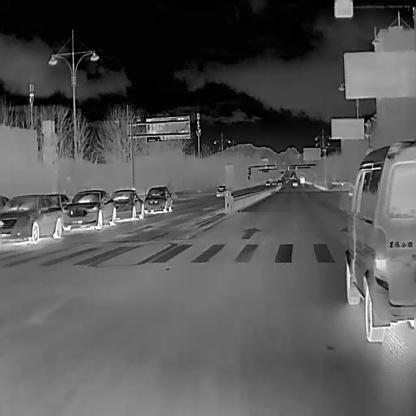car: (338, 138, 414, 341), (0, 192, 62, 241), (62, 189, 116, 229), (112, 188, 146, 219), (143, 185, 172, 212), (215, 183, 228, 197), (299, 174, 304, 183), (291, 179, 297, 185), (264, 179, 270, 185), (271, 180, 277, 185), (277, 179, 282, 185)
